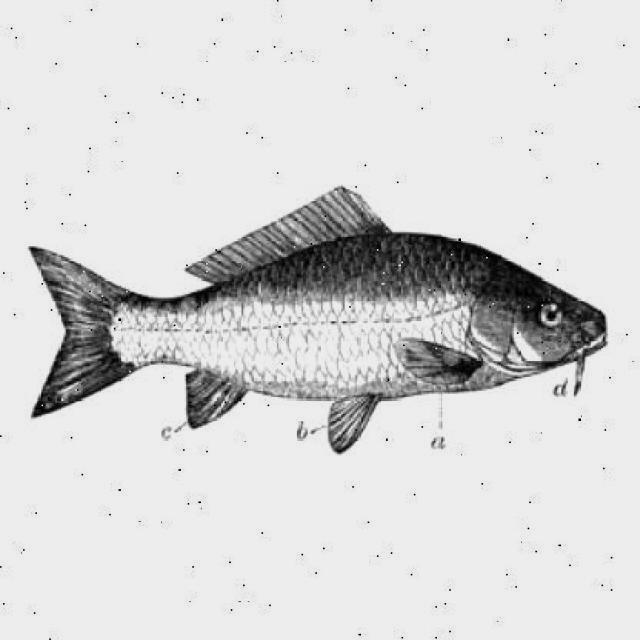ikan-mas: (24, 185, 604, 442)
